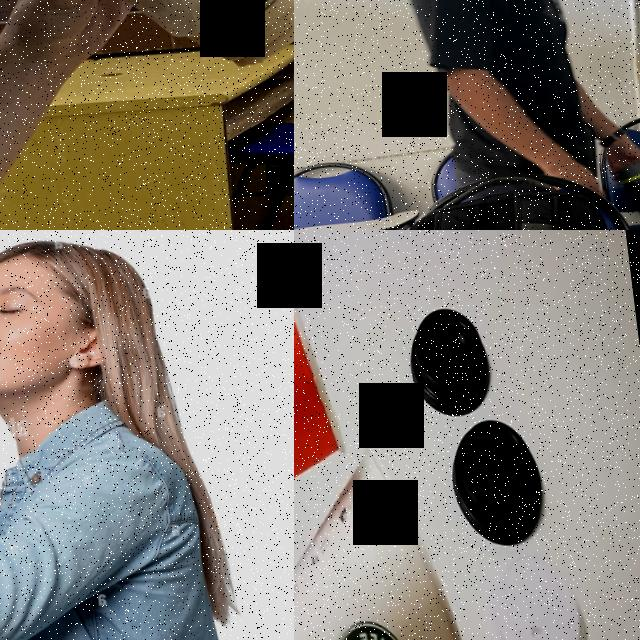cup: (294, 432, 476, 640), (1, 0, 294, 100), (294, 230, 357, 568)
